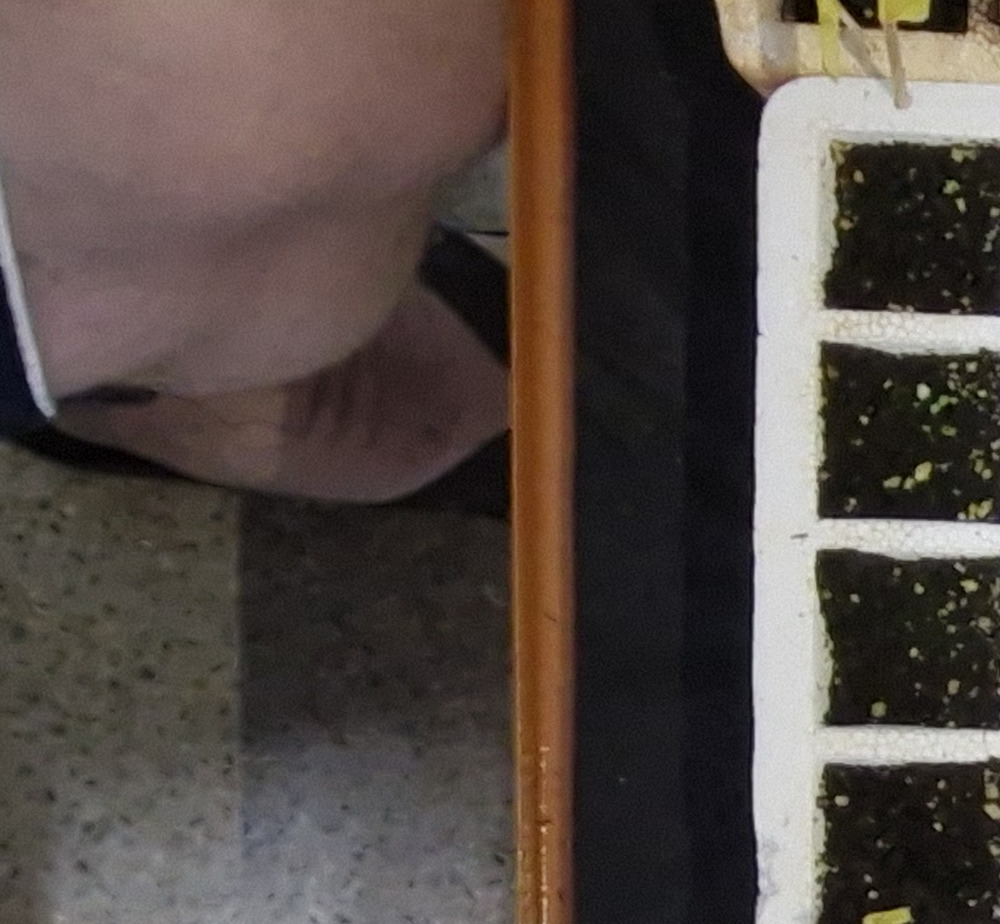Folha: (931, 403, 941, 414), (938, 396, 948, 406)
Germinacao: (929, 394, 949, 414)
